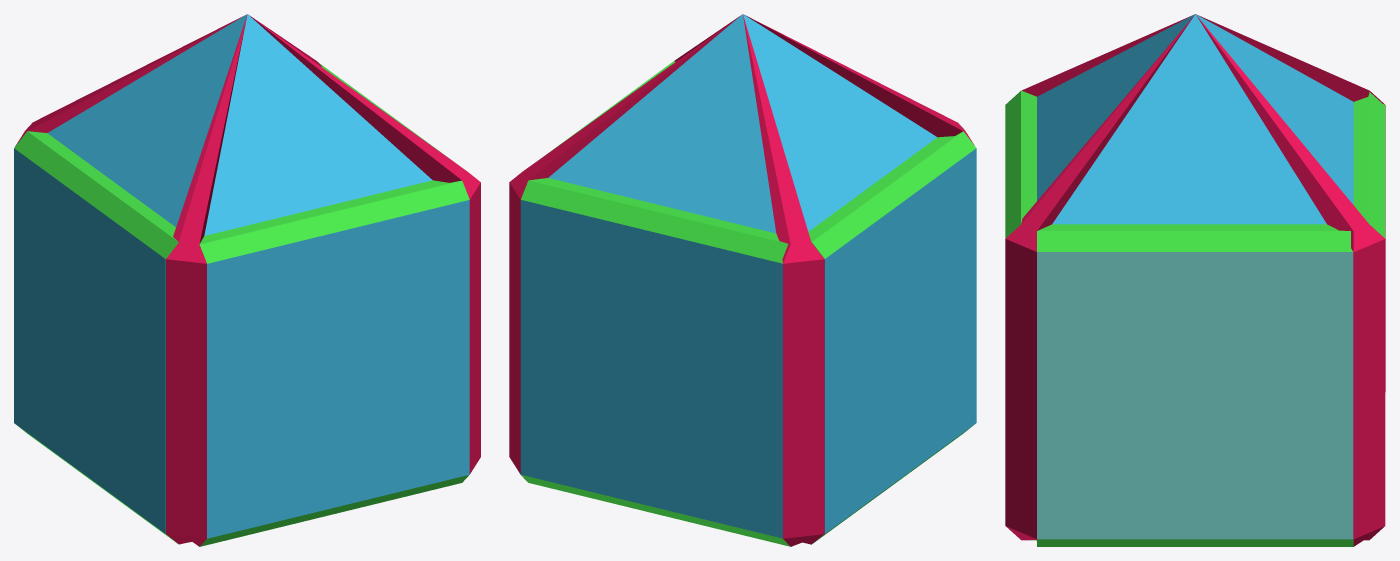
3 renders of one model, left to right at view 1: azimuth 30°, elevation 25°; view 2: azimuth 150°, elevation 25°; view 3: azimuth 270°, elevation 25°, orthographic. The views are drawn at different scales.
Parts seen in each view (by area): view 1: FaceD, FaceC, UpFace, Side D, JoinUp, Side A, Side C, JoinDown; view 2: FaceB, FaceC, UpFace, Side C, JoinUp, Side B, Side D, JoinDown; view 3: FaceA, UpFace, JoinUp, Side B, Side A, JoinDown, Side C, Side D.
Boxes of the visible parts, box(x1,y1,x2,y2) form: FaceD: box(207, 200, 469, 538); FaceC: box(14, 148, 165, 533); UpFace: box(47, 14, 432, 235); Side D: box(166, 15, 247, 546); JoinUp: box(14, 62, 469, 263); Side A: box(248, 14, 480, 474); Side C: box(15, 15, 244, 146); JoinDown: box(15, 424, 468, 546); FaceB: box(520, 200, 782, 538); FaceC: box(824, 148, 976, 533); UpFace: box(548, 14, 937, 233); Side C: box(743, 15, 824, 546); JoinUp: box(521, 61, 976, 263); Side B: box(509, 16, 739, 479); Side D: box(745, 15, 973, 144); JoinDown: box(521, 425, 973, 546); FaceA: box(1037, 252, 1353, 539); UpFace: box(1037, 14, 1353, 224); JoinUp: box(1005, 90, 1385, 251); Side B: box(1196, 15, 1385, 546); Side A: box(1005, 16, 1193, 540); JoinDown: box(1031, 539, 1353, 546); Side C: box(1198, 15, 1385, 391); Side D: box(1022, 15, 1192, 96).
Size of the model in its own units: 240 by 320 by 240.
